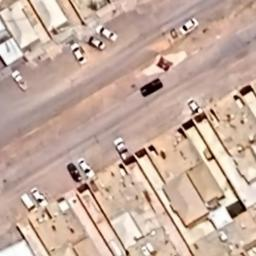SUV: (66, 162, 84, 182)
pickup: (11, 68, 31, 92)
sedan: (94, 22, 120, 44), (76, 155, 98, 180), (29, 185, 50, 210), (69, 40, 88, 66), (180, 16, 200, 38), (112, 136, 130, 160), (186, 96, 205, 116), (85, 34, 106, 52)
unknown: (139, 76, 164, 97)
van: (20, 192, 38, 216)
